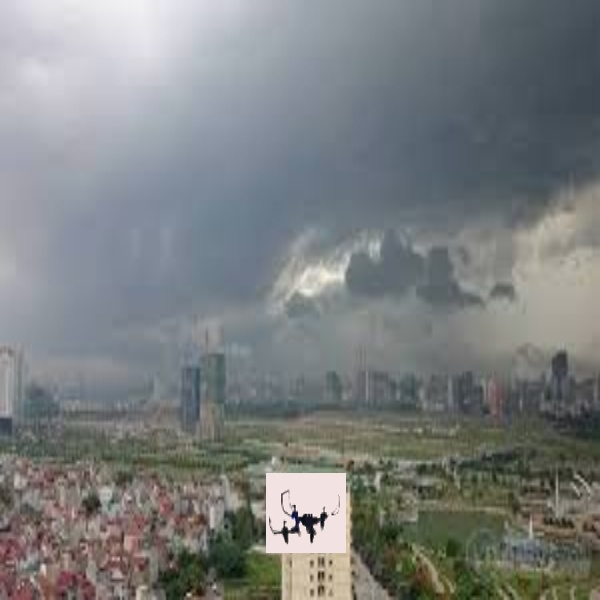drone: (268, 481, 343, 551)
